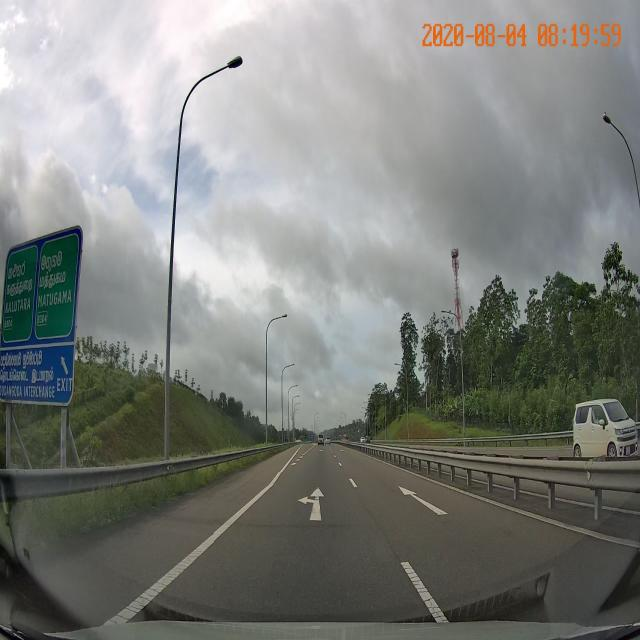forward_lft: (215, 473, 397, 547)
